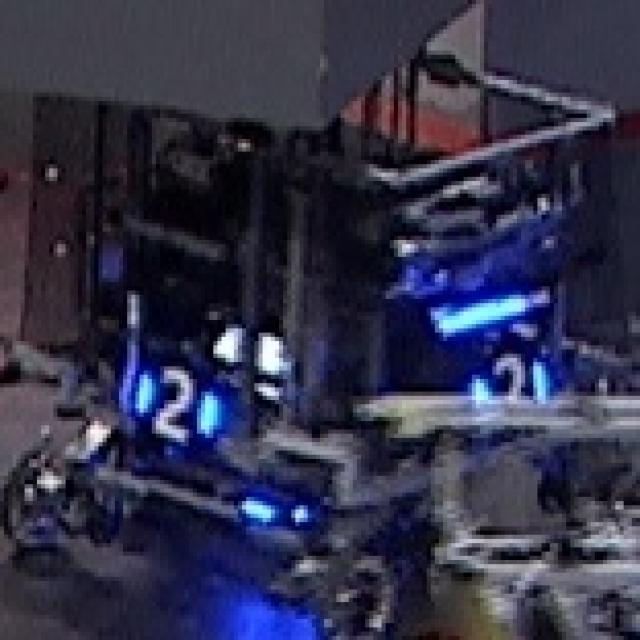B2: (115, 362, 230, 455)
